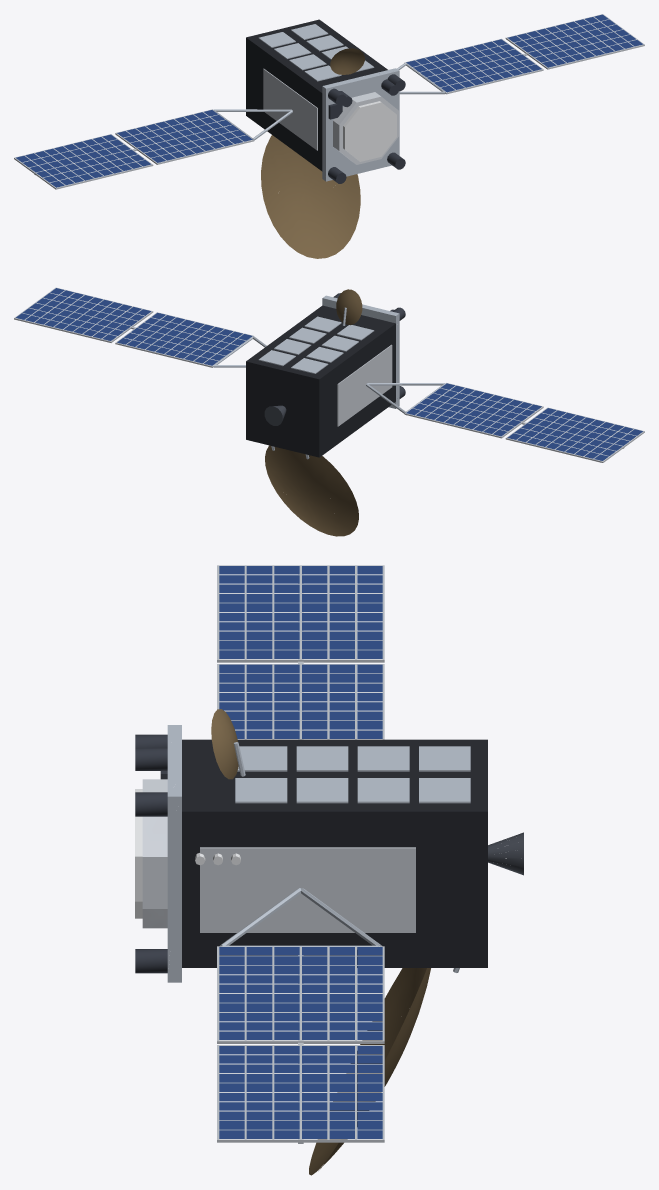
Rendered from qzs-7.glb.
The picture shows the model from 3 angles, top to bottom: view 1: azimuth 30°, elevation 25°; view 2: azimuth 150°, elevation 25°; view 3: azimuth 270°, elevation 25°; orthographic projection. The views are drawn at different scales.
Visible parts, largest first — view 1: body, solar-panel, foil; view 2: body, solar-panel, foil; view 3: body, solar-panel, foil.
Part boxes in pixels (x1=…): body: x1=14, y1=14, x2=644, y2=258; solar-panel: x1=16, y1=14, x2=643, y2=187; foil: x1=246, y1=19, x2=387, y2=171; body: x1=14, y1=287, x2=644, y2=536; solar-panel: x1=16, y1=288, x2=642, y2=460; foil: x1=246, y1=305, x2=395, y2=457; body: x1=135, y1=565, x2=523, y2=1175; solar-panel: x1=219, y1=566, x2=382, y2=1138; foil: x1=182, y1=739, x2=487, y2=967.
Bounding box in the file's own units: 18.9 × 6.98 × 5.4.
